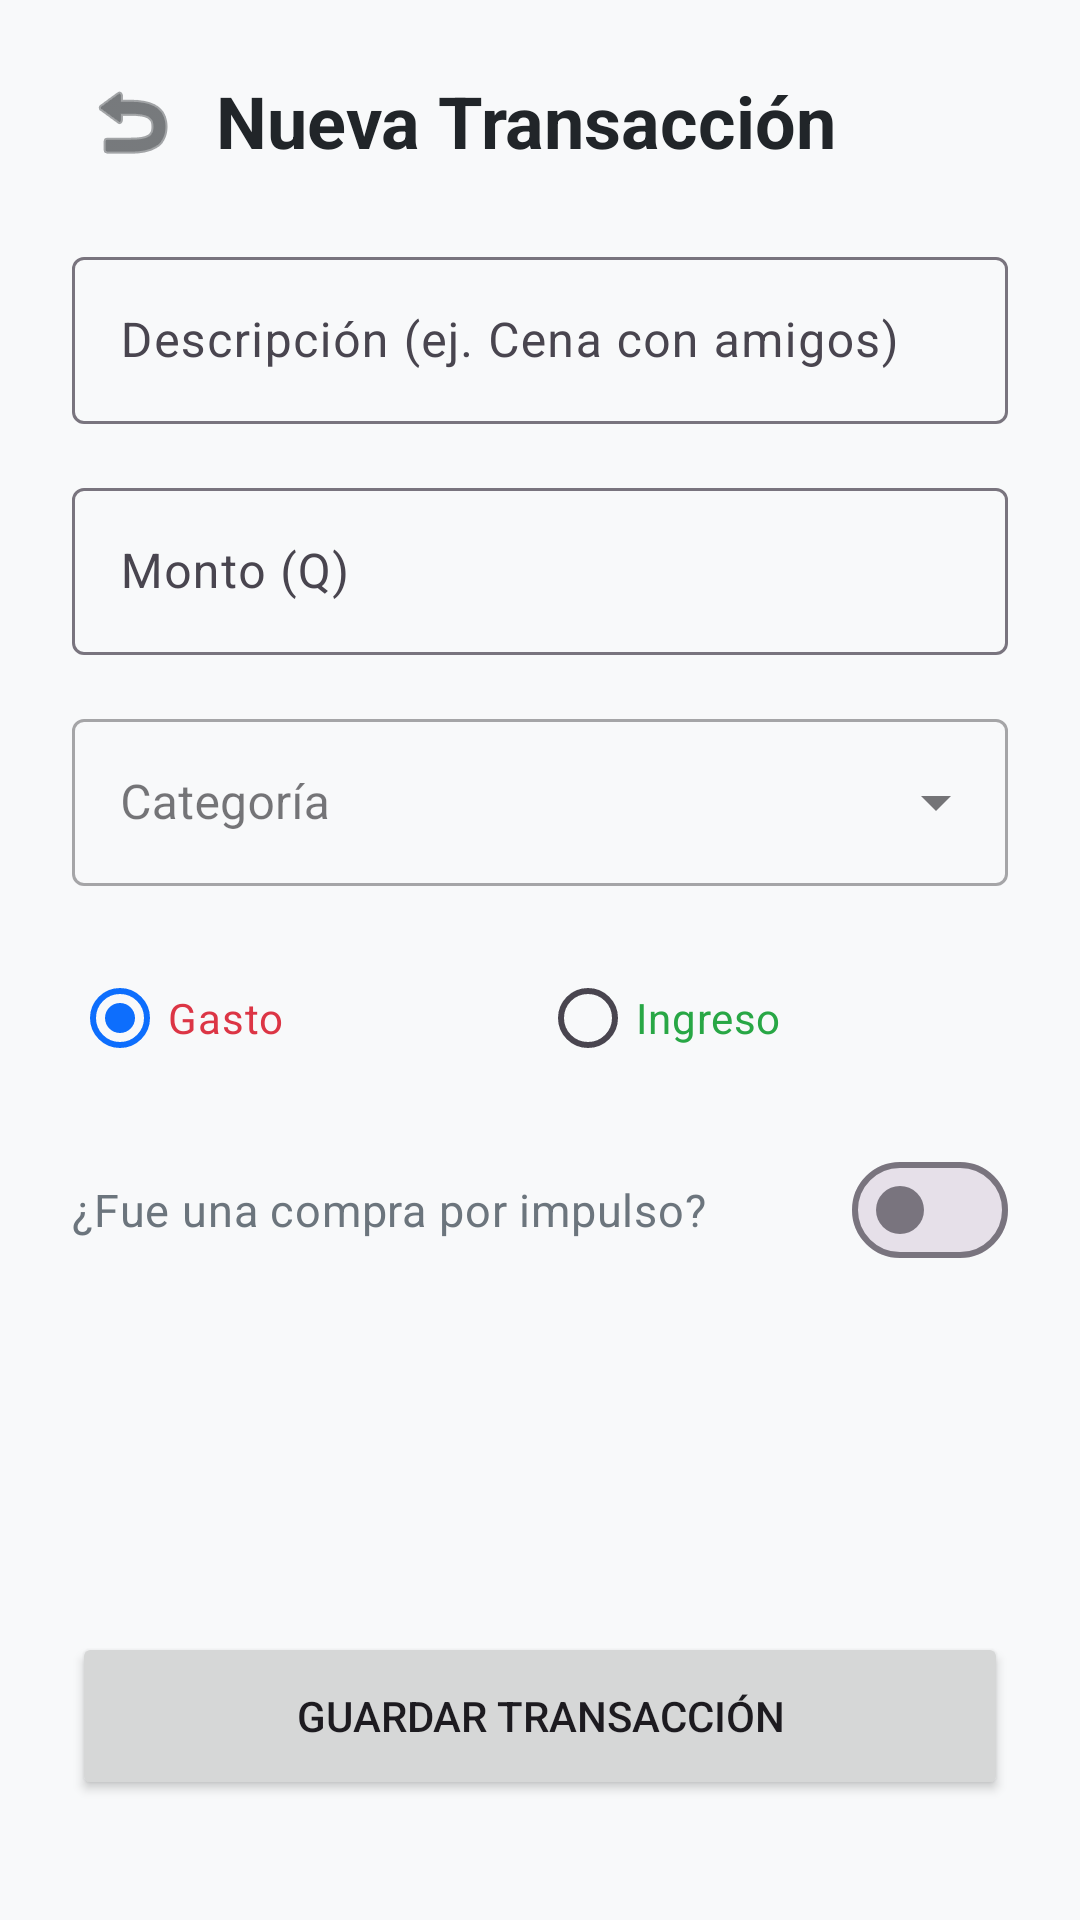

Where to tap for icons on this 1080w x 1920h app screen, as (x,y):
Regresar: (133,122)
